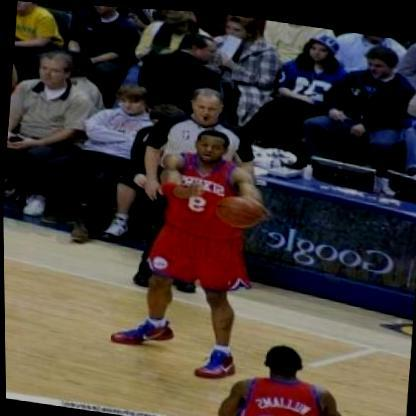basketball: (205, 186, 273, 234)
